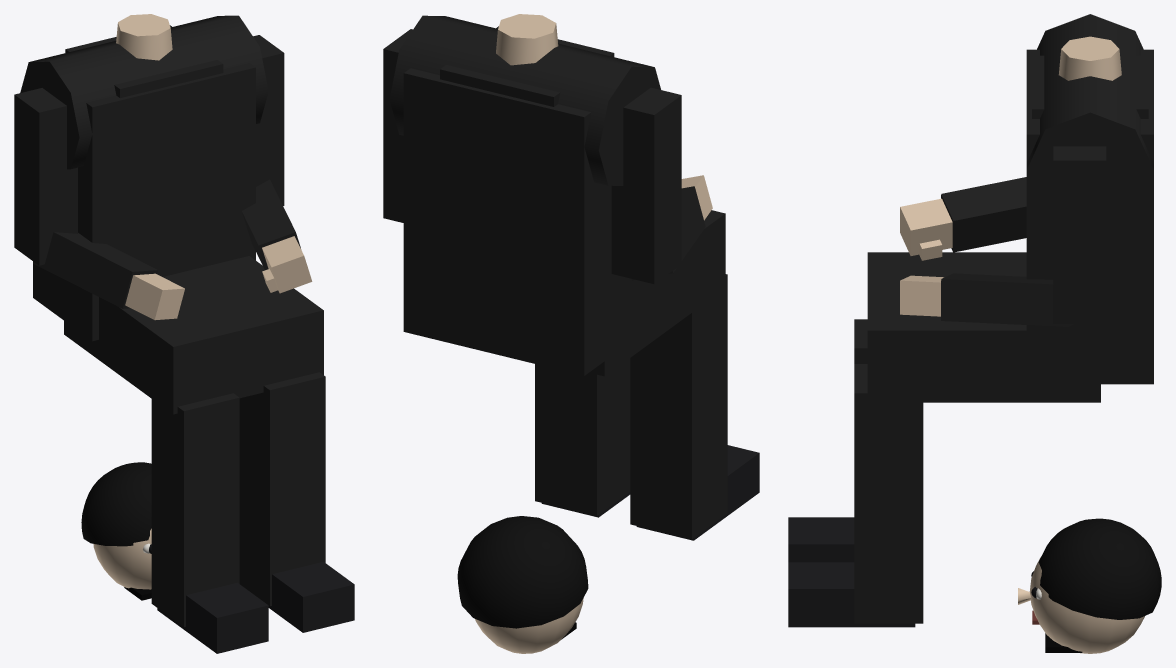
File: anomaly_extra.fbx
3 renders of one model, left to right at view 1: azimuth 30°, elevation 25°; view 2: azimuth 150°, elevation 25°; view 3: azimuth 270°, elevation 25°, orthographic. The views are drawn at different scales.
Visible parts, largest first — view 1: Mesh_7, Mesh_8, Body_Skin, Mesh_0, Head_Skin; view 2: Mesh_7, Mesh_0, Body_Skin, Head_Skin, Mesh_8; view 3: Mesh_7, Mesh_0, Mesh_8, Body_Skin, Head_Skin.
Part boxes in pixels (x1,y1,x2,y2): Mesh_7: [14, 15, 325, 626]; Mesh_8: [157, 561, 354, 653]; Body_Skin: [116, 14, 312, 320]; Mesh_0: [81, 462, 151, 546]; Head_Skin: [93, 528, 151, 589]; Mesh_7: [383, 15, 727, 539]; Mesh_0: [457, 516, 588, 628]; Body_Skin: [496, 14, 712, 220]; Head_Skin: [475, 598, 583, 653]; Mesh_8: [541, 445, 759, 540]; Mesh_7: [854, 14, 1153, 623]; Mesh_0: [1038, 518, 1161, 619]; Mesh_8: [788, 517, 915, 627]; Body_Skin: [900, 36, 1121, 316]; Head_Skin: [1018, 556, 1144, 653].
Size of the model in its own units: 0.57 by 1.25 by 0.7048.
